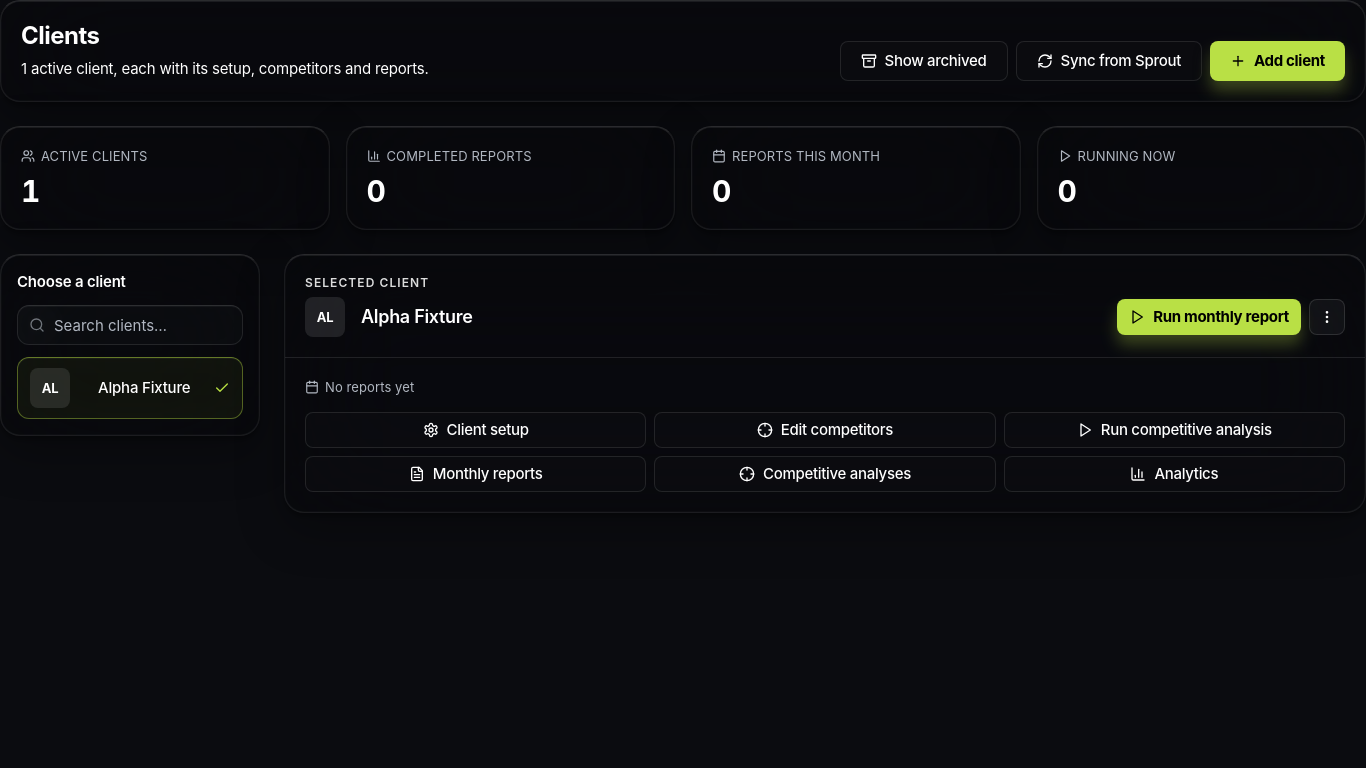
Test: when the run is over › says one client was added in the singular
What coordinates should you click on to do the following:
click the button "Sync from Sprout"
I would click on:
 (1109, 61)
Its box is [1016, 41, 1202, 81].
Wait 10020 ms
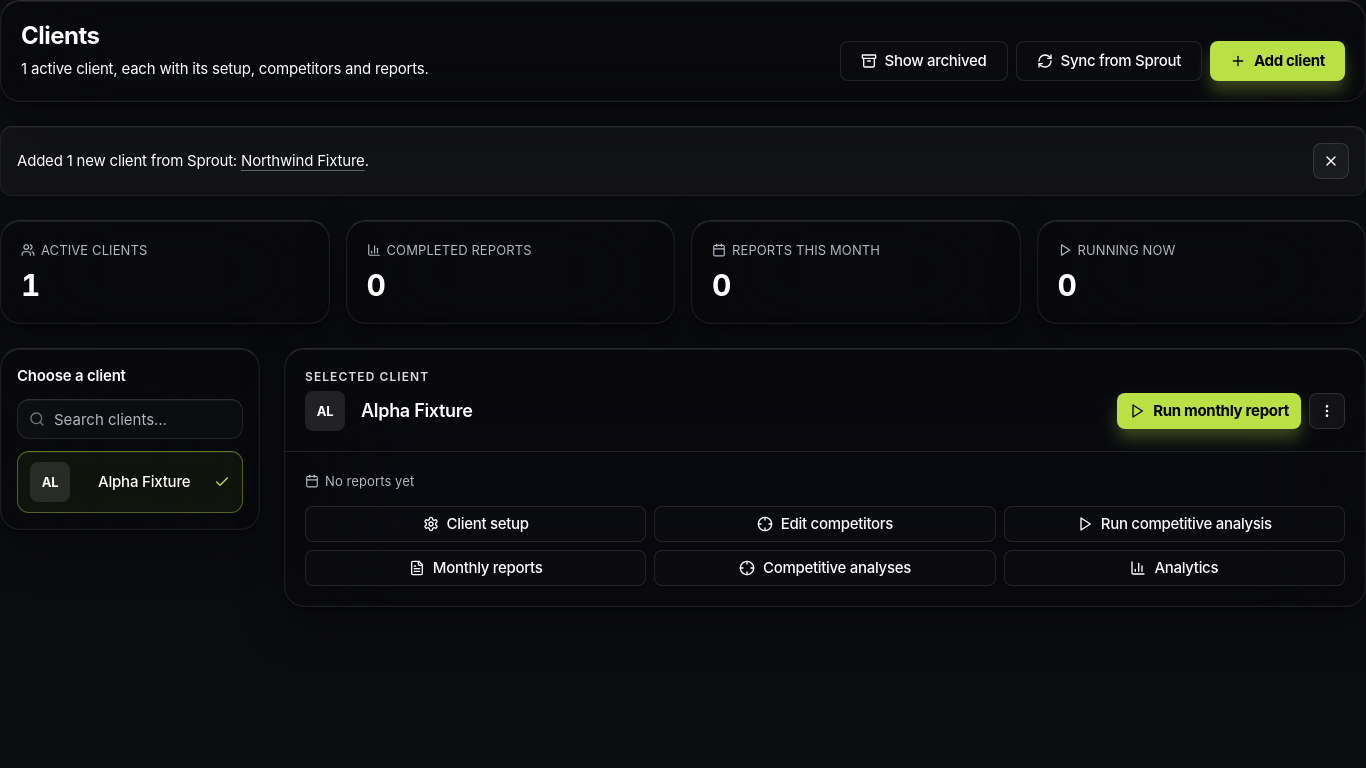
Expected: the message reads "Added 1 new client from Sprout: Northwind Fixture .", [0, 126, 1365, 196]
